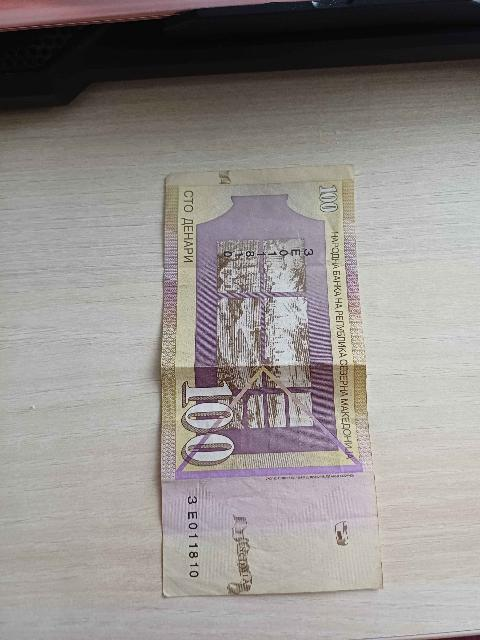100_note: (162, 166, 381, 595)
